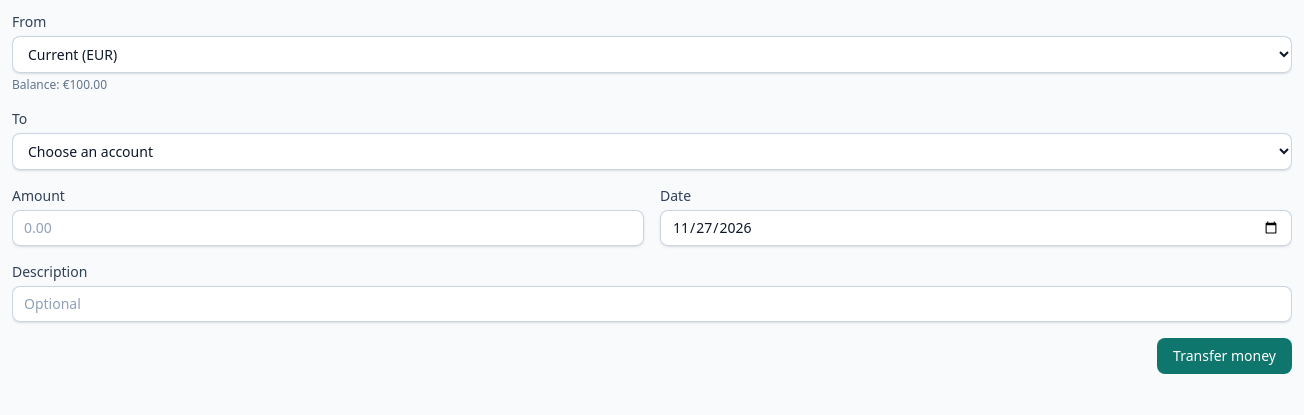
Test: TransferForm › shows "insufficient funds" on the amount field
Select "Savings" in the dropdown labelled "To": (652, 152) [12,133,1292,170]
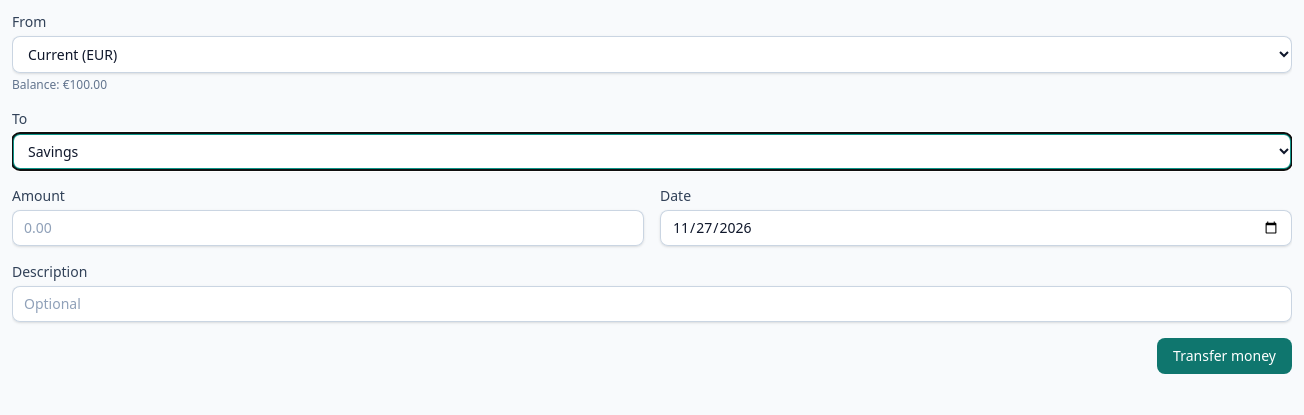
In the field labelled "Amount": (328, 228) [12,210,644,246], type "999"
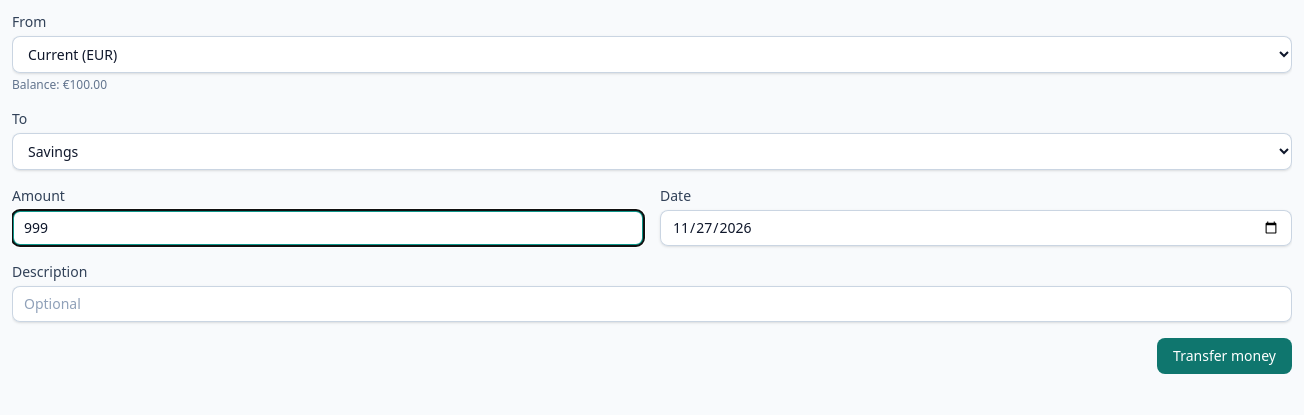
Click the button "Transfer money": (1225, 356) [1157,338,1292,374]
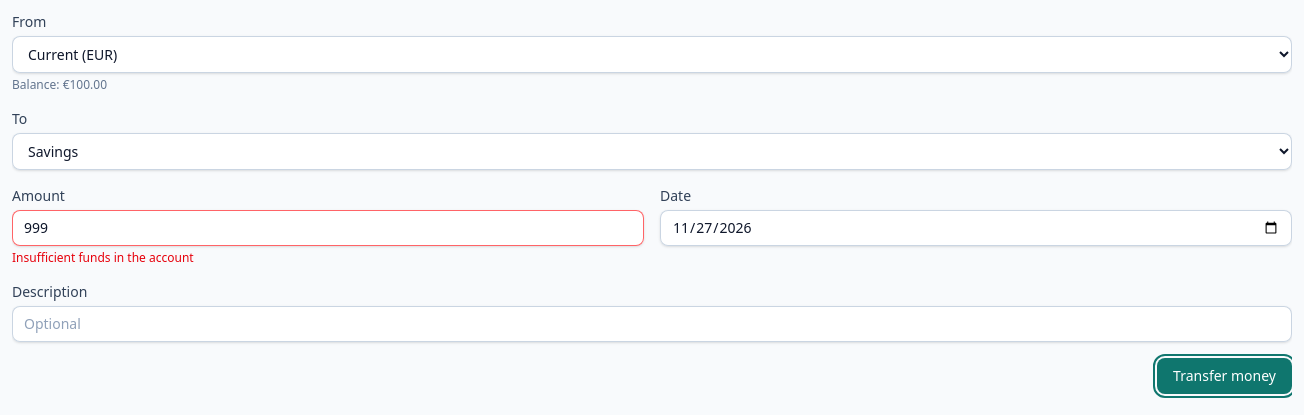
Check: the text "Insufficient funds in the account" is shown, box [12,249,194,266]
